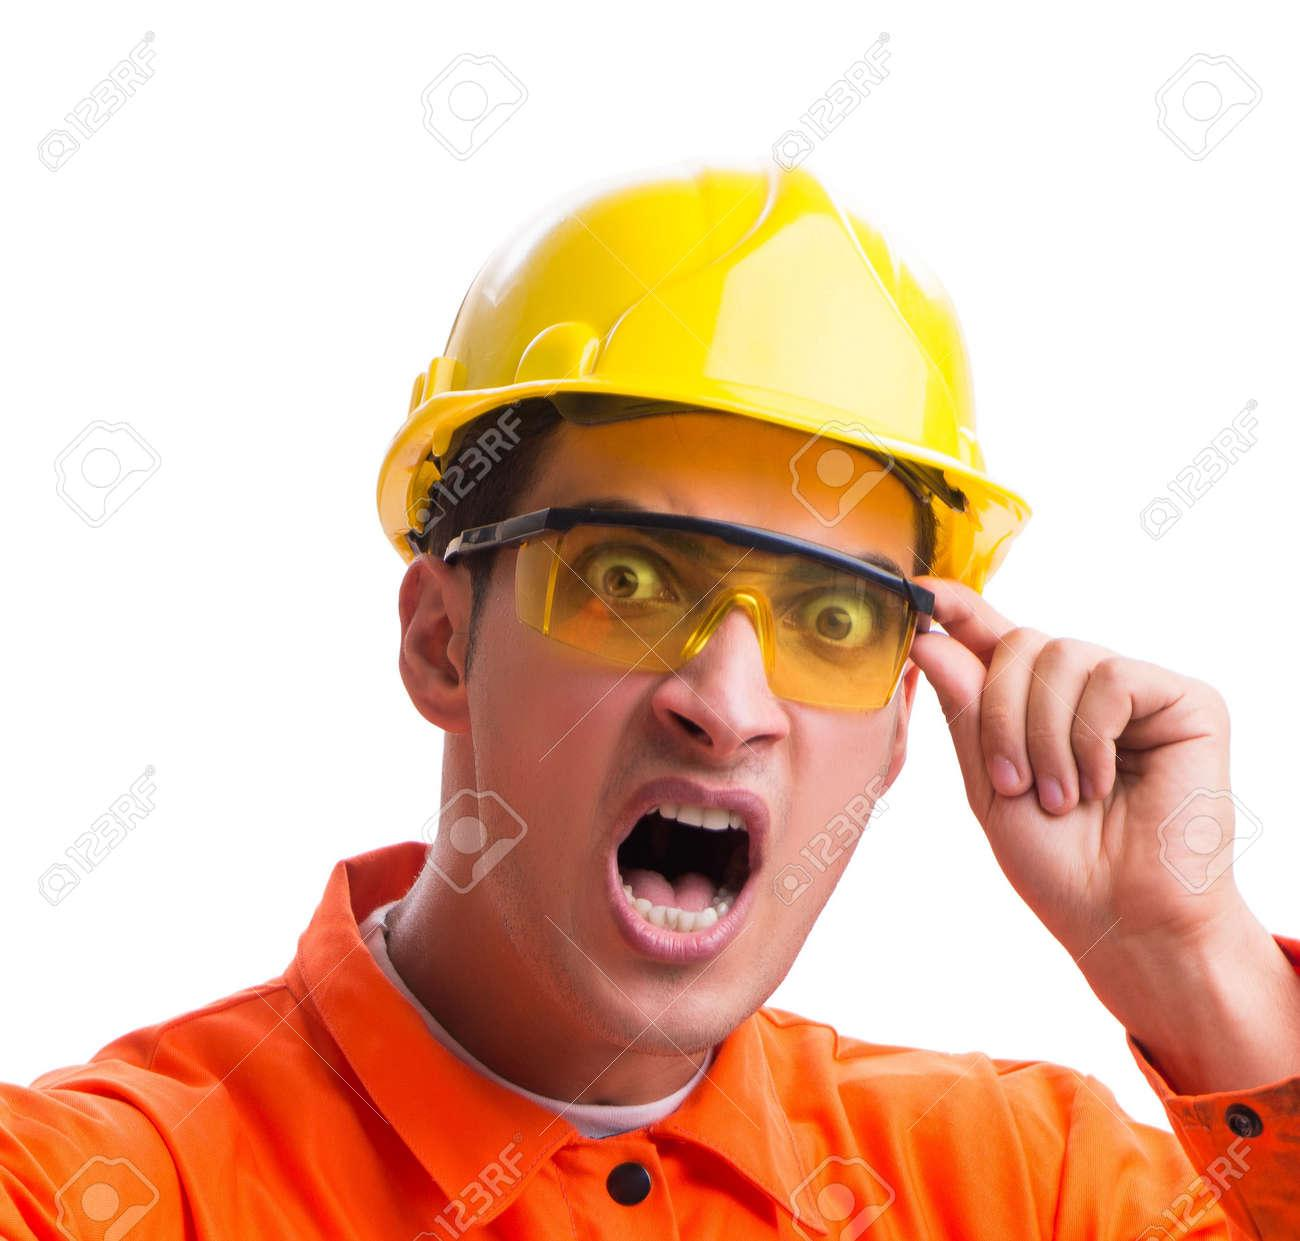hardhat: (378, 145, 1044, 589)
worker: (12, 157, 1300, 1238)
